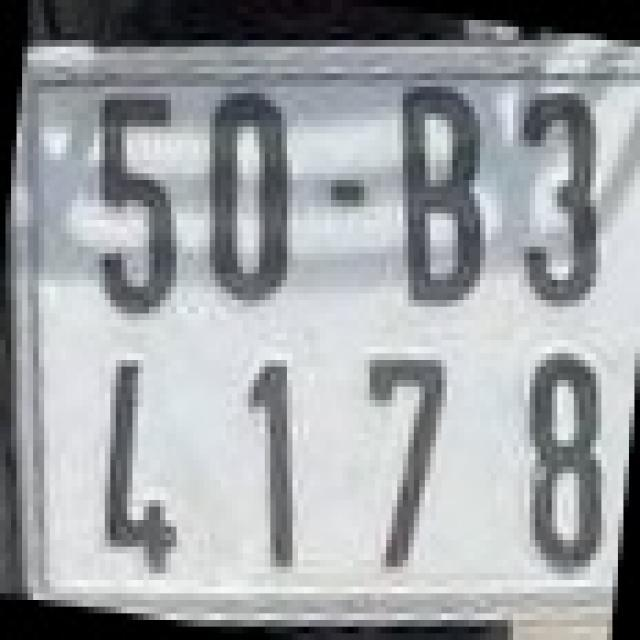0: (198, 86, 298, 306)
1: (238, 354, 314, 574)
3: (512, 86, 602, 306)
4: (94, 353, 188, 580)
5: (94, 86, 182, 314)
7: (364, 346, 452, 574)
8: (518, 346, 608, 574)
B: (392, 80, 492, 314)
